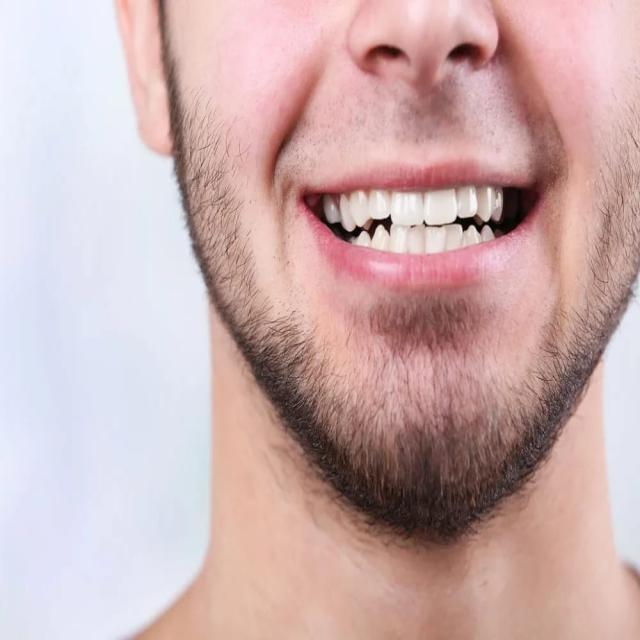tooth: (421, 189, 456, 224), (389, 190, 421, 224), (456, 184, 476, 223), (369, 190, 389, 224), (475, 184, 493, 219), (423, 228, 449, 250), (351, 192, 369, 223), (390, 223, 410, 250), (322, 190, 336, 224), (479, 220, 494, 248), (492, 190, 506, 219), (339, 198, 352, 229), (373, 224, 391, 246), (462, 226, 479, 248), (449, 227, 462, 250), (410, 228, 423, 250), (355, 234, 373, 247)
